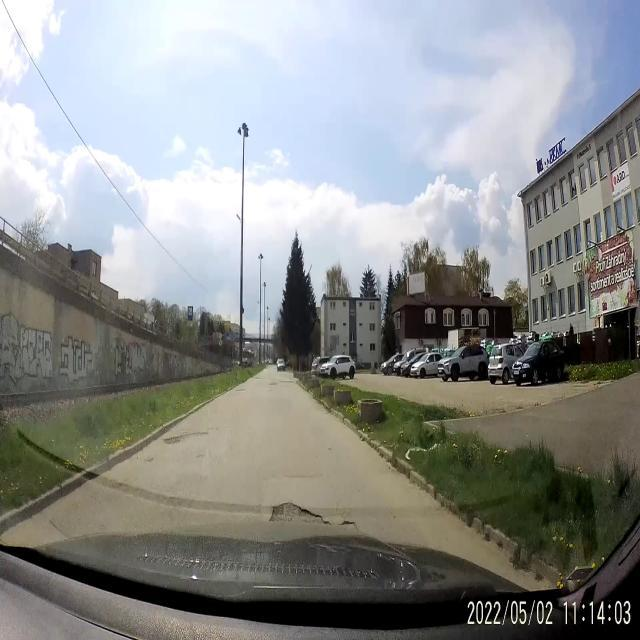Pothole: (268, 498, 356, 530), (162, 424, 210, 450), (235, 386, 248, 396)
